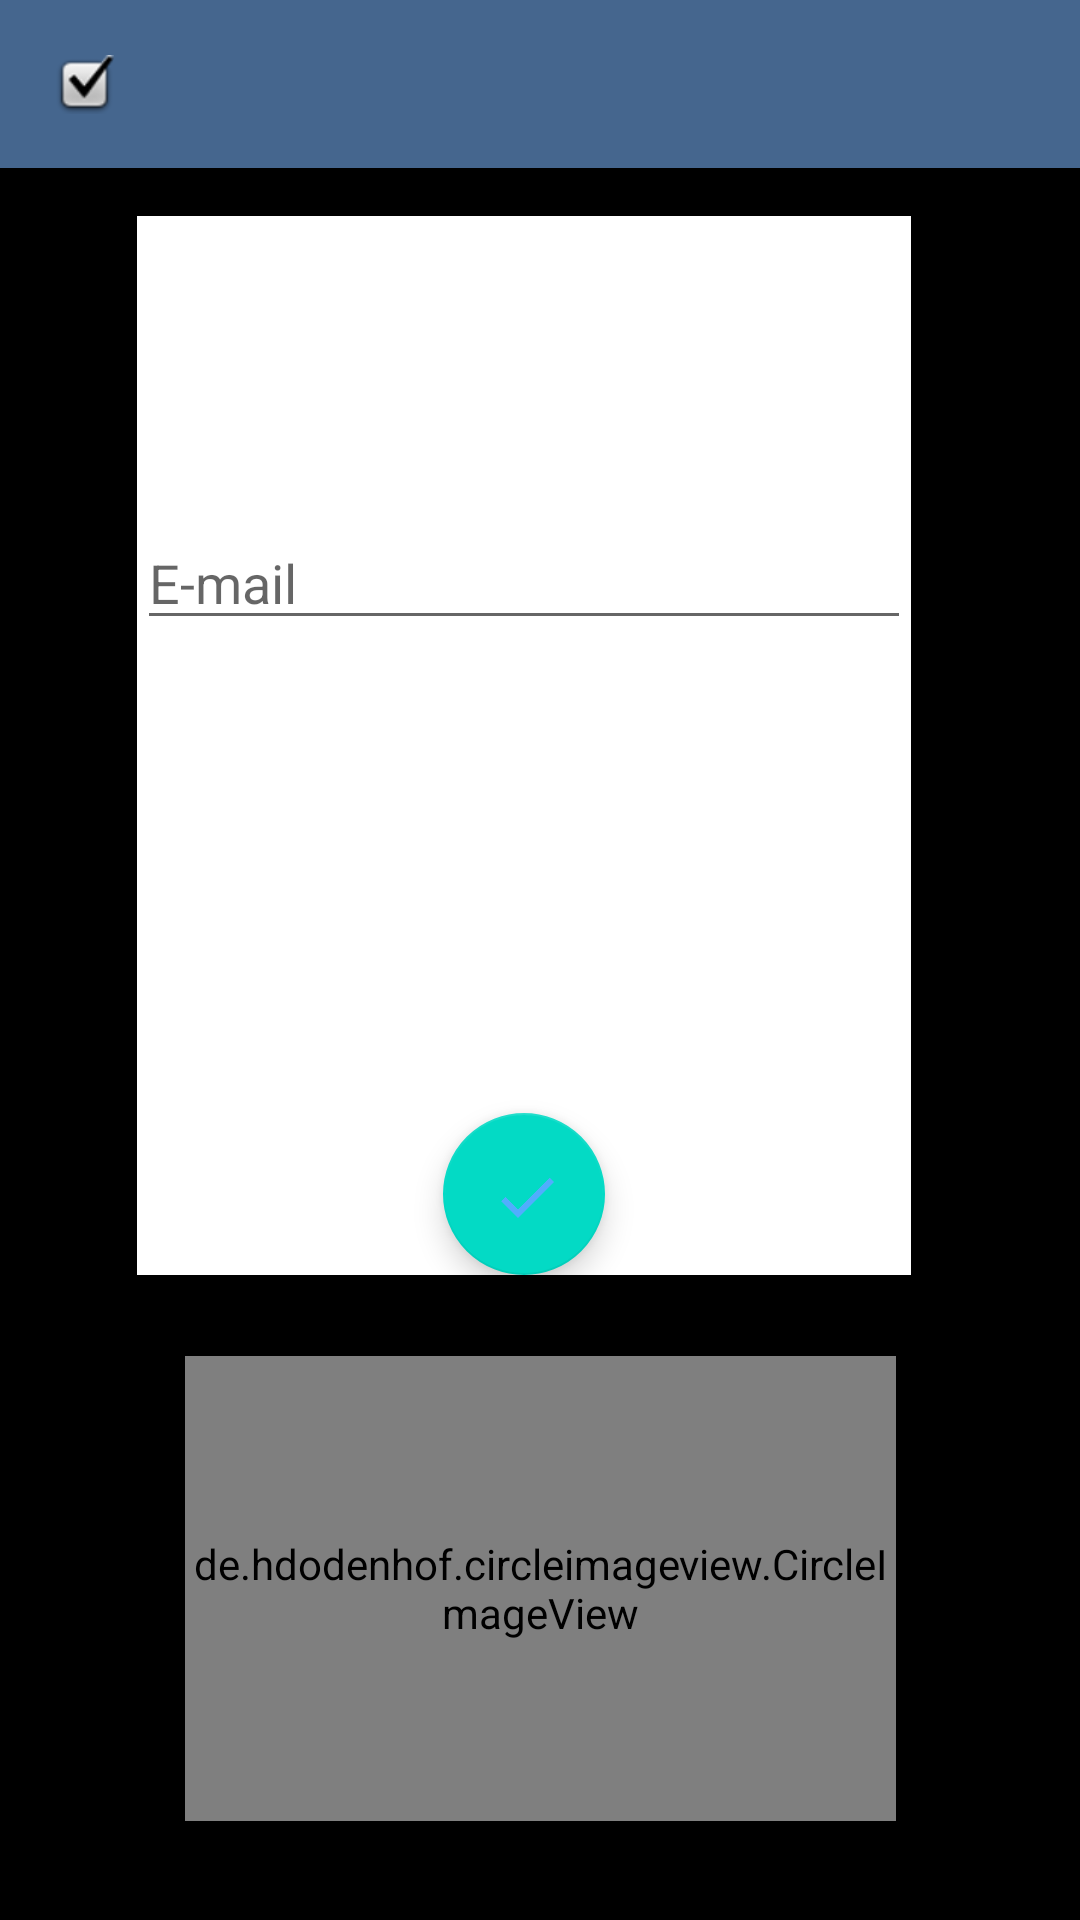

Named icons in this screenshot (1080x1920) and their bounding boxes, (x1, y1, x2, y2):
done: (443, 1113, 605, 1275)
